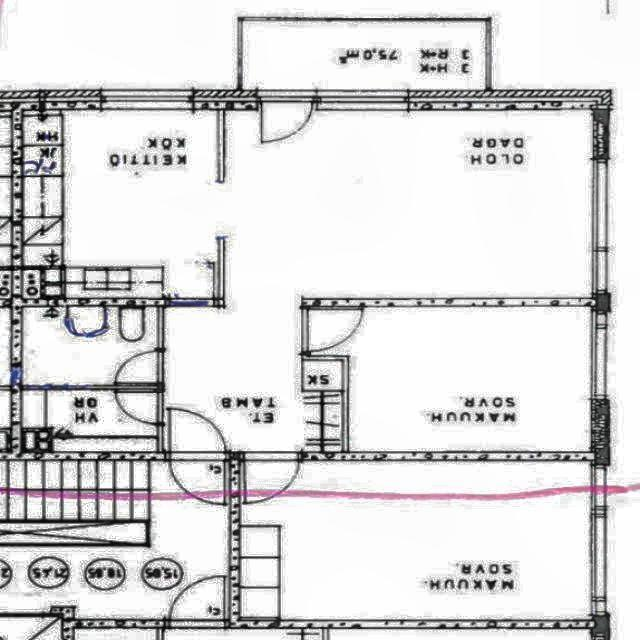room: (240, 461, 591, 619), (308, 307, 592, 452), (0, 460, 228, 619), (21, 308, 159, 453)
